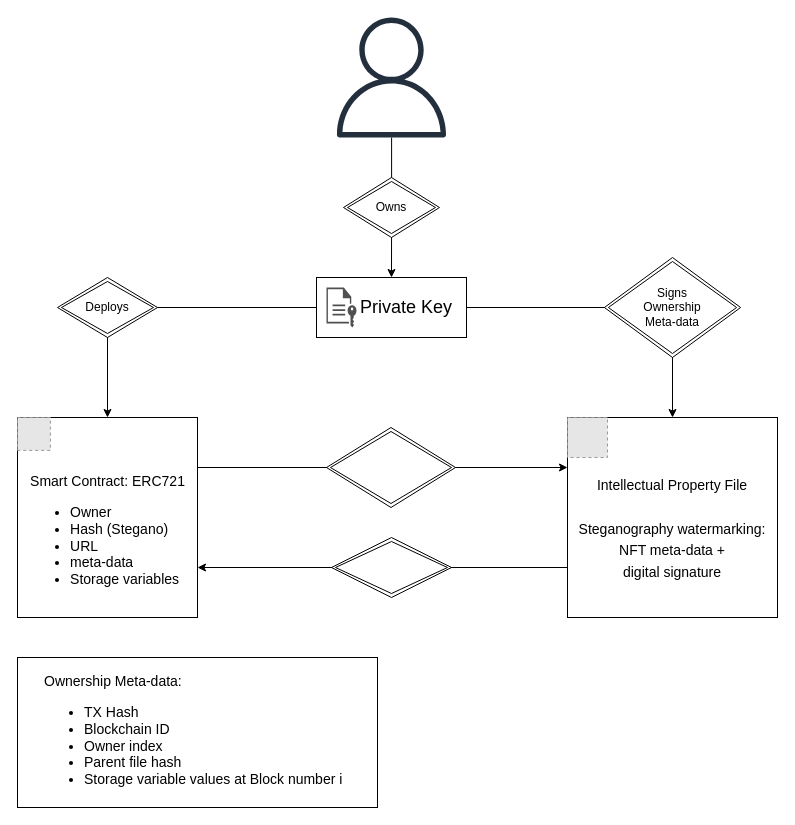
The diagram is 795 pixels wide and 825 high, and some of its shapes have lost their labels. Grey dashed boxes stand in for pictures. The centre of each missing label's shape, as x and y in pixels:
Creator: point (391, 77)
File Hash: point (391, 567)
Ownership Meta-data: point (391, 467)
